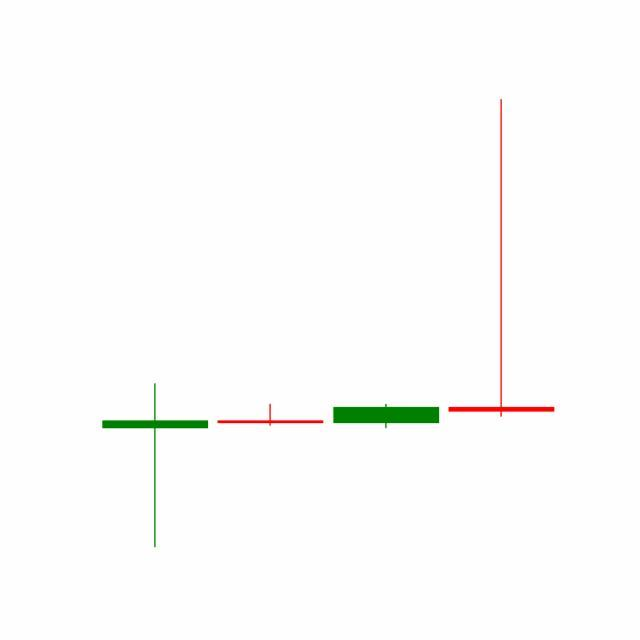Gravestone Doji: (444, 97, 560, 422)
